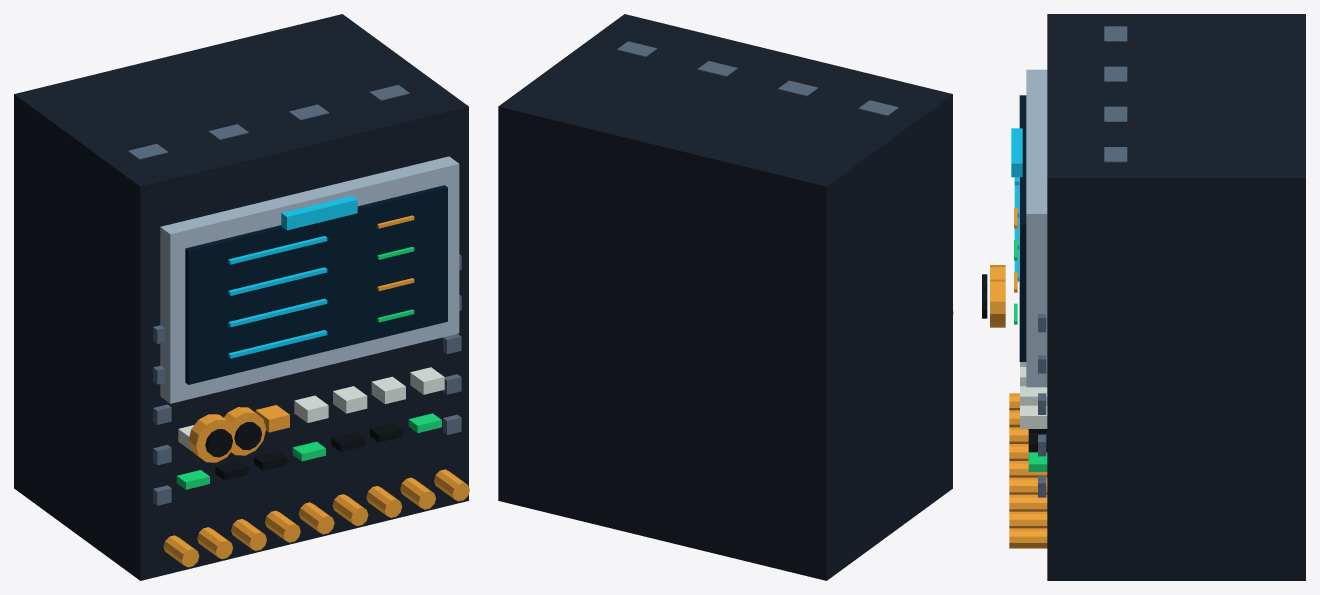
Rendered from 42_L88_ElectrolyzerCellMonitoringConsole.fbx.
The picture shows the model from 3 angles, left to right: view 1: azimuth 30°, elevation 25°; view 2: azimuth 150°, elevation 25°; view 3: azimuth 270°, elevation 25°; orthographic projection. The views are drawn at different scales.
Parts seen in each view (by area): view 1: L87_ElectrolyzerCellMonitoringConsole_Part_0000, L87_ElectrolyzerCellMonitoringConsole_Part_0002, L87_ElectrolyzerCellMonitoringConsole_Part_0001, L87_ElectrolyzerCellMonitoringConsole_Part_0004, L87_ElectrolyzerCellMonitoringConsole_Part_0008, L87_ElectrolyzerCellMonitoringConsole_Part_0006, L87_ElectrolyzerCellMonitoringConsole_Part_0003, L87_ElectrolyzerCellMonitoringConsole_Part_0007, L87_ElectrolyzerCellMonitoringConsole_Part_0005, L87_ElectrolyzerCellMonitoringConsole_Part_0009, L87_ElectrolyzerCellMonitoringConsole_Part_0010, L87_ElectrolyzerCellMonitoringConsole_Part_0012 (+2 smaller); view 2: L87_ElectrolyzerCellMonitoringConsole_Part_0000, L87_ElectrolyzerCellMonitoringConsole_Part_0008; view 3: L87_ElectrolyzerCellMonitoringConsole_Part_0000, L87_ElectrolyzerCellMonitoringConsole_Part_0001, L87_ElectrolyzerCellMonitoringConsole_Part_0004, L87_ElectrolyzerCellMonitoringConsole_Part_0008, L87_ElectrolyzerCellMonitoringConsole_Part_0002, L87_ElectrolyzerCellMonitoringConsole_Part_0006, L87_ElectrolyzerCellMonitoringConsole_Part_0012, L87_ElectrolyzerCellMonitoringConsole_Part_0009, L87_ElectrolyzerCellMonitoringConsole_Part_0005, L87_ElectrolyzerCellMonitoringConsole_Part_0003.
Boxes of the visible parts, <box> form: L87_ElectrolyzerCellMonitoringConsole_Part_0000: <box>14,14,468,580</box>; L87_ElectrolyzerCellMonitoringConsole_Part_0002: <box>185,185,447,384</box>; L87_ElectrolyzerCellMonitoringConsole_Part_0001: <box>160,156,459,403</box>; L87_ElectrolyzerCellMonitoringConsole_Part_0004: <box>163,215,469,567</box>; L87_ElectrolyzerCellMonitoringConsole_Part_0008: <box>128,85,461,505</box>; L87_ElectrolyzerCellMonitoringConsole_Part_0006: <box>178,367,444,450</box>; L87_ElectrolyzerCellMonitoringConsole_Part_0003: <box>228,236,327,358</box>; L87_ElectrolyzerCellMonitoringConsole_Part_0007: <box>215,423,403,480</box>; L87_ElectrolyzerCellMonitoringConsole_Part_0005: <box>176,246,441,489</box>; L87_ElectrolyzerCellMonitoringConsole_Part_0009: <box>281,196,357,230</box>; L87_ElectrolyzerCellMonitoringConsole_Part_0010: <box>188,414,235,462</box>; L87_ElectrolyzerCellMonitoringConsole_Part_0012: <box>224,407,265,455</box>; L87_ElectrolyzerCellMonitoringConsole_Part_0000: <box>498,14,952,580</box>; L87_ElectrolyzerCellMonitoringConsole_Part_0008: <box>617,41,898,115</box>; L87_ElectrolyzerCellMonitoringConsole_Part_0000: <box>1047,14,1305,580</box>; L87_ElectrolyzerCellMonitoringConsole_Part_0001: <box>1026,69,1047,387</box>; L87_ElectrolyzerCellMonitoringConsole_Part_0004: <box>1009,207,1047,548</box>; L87_ElectrolyzerCellMonitoringConsole_Part_0008: <box>1038,26,1127,497</box>; L87_ElectrolyzerCellMonitoringConsole_Part_0002: <box>1019,95,1026,361</box>; L87_ElectrolyzerCellMonitoringConsole_Part_0006: <box>1020,362,1047,428</box>; L87_ElectrolyzerCellMonitoringConsole_Part_0012: <box>990,279,1005,327</box>; L87_ElectrolyzerCellMonitoringConsole_Part_0009: <box>1011,128,1022,177</box>; L87_ElectrolyzerCellMonitoringConsole_Part_0005: <box>1014,239,1047,471</box>; L87_ElectrolyzerCellMonitoringConsole_Part_0003: <box>1014,177,1019,281</box>.
Size of the model in its own units: 104 by 120 by 86.88.
